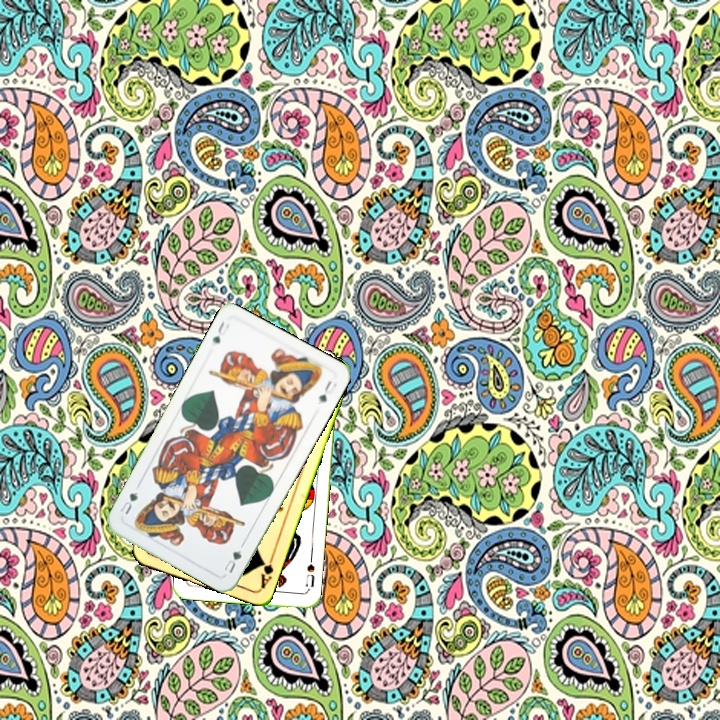GA: (257, 550, 277, 590)
GU: (220, 546, 244, 576), (208, 317, 232, 346)
SU: (301, 553, 317, 589)
